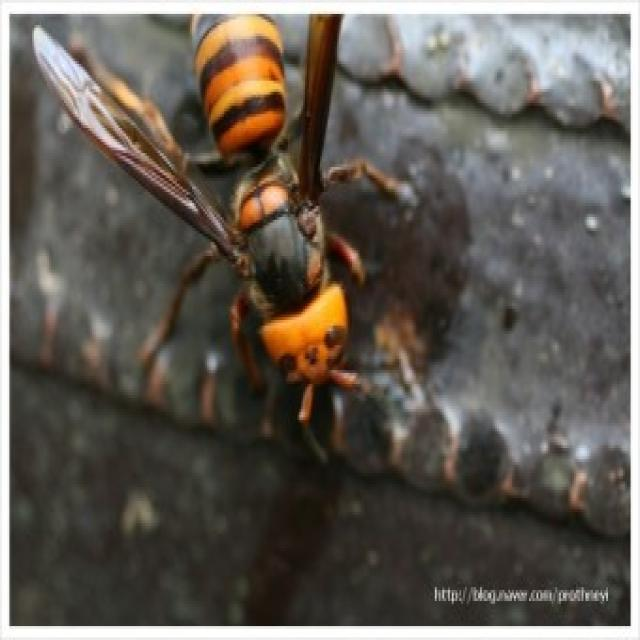Wasp: (29, 13, 442, 438)
